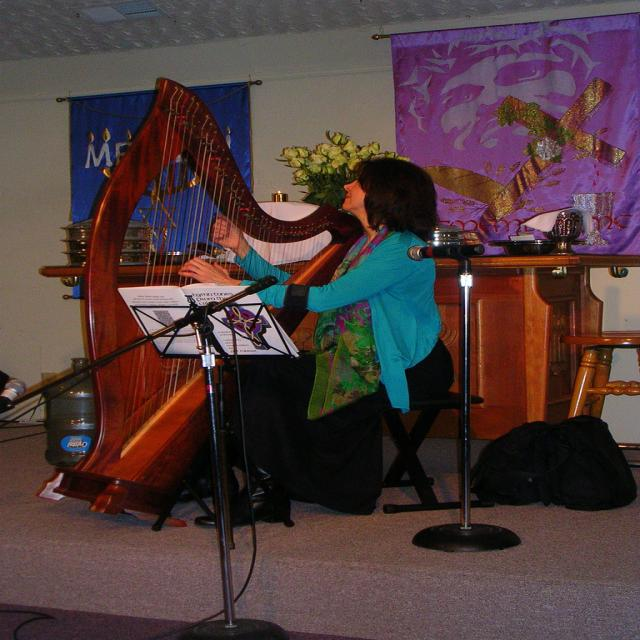harp: (76, 78, 362, 515)
